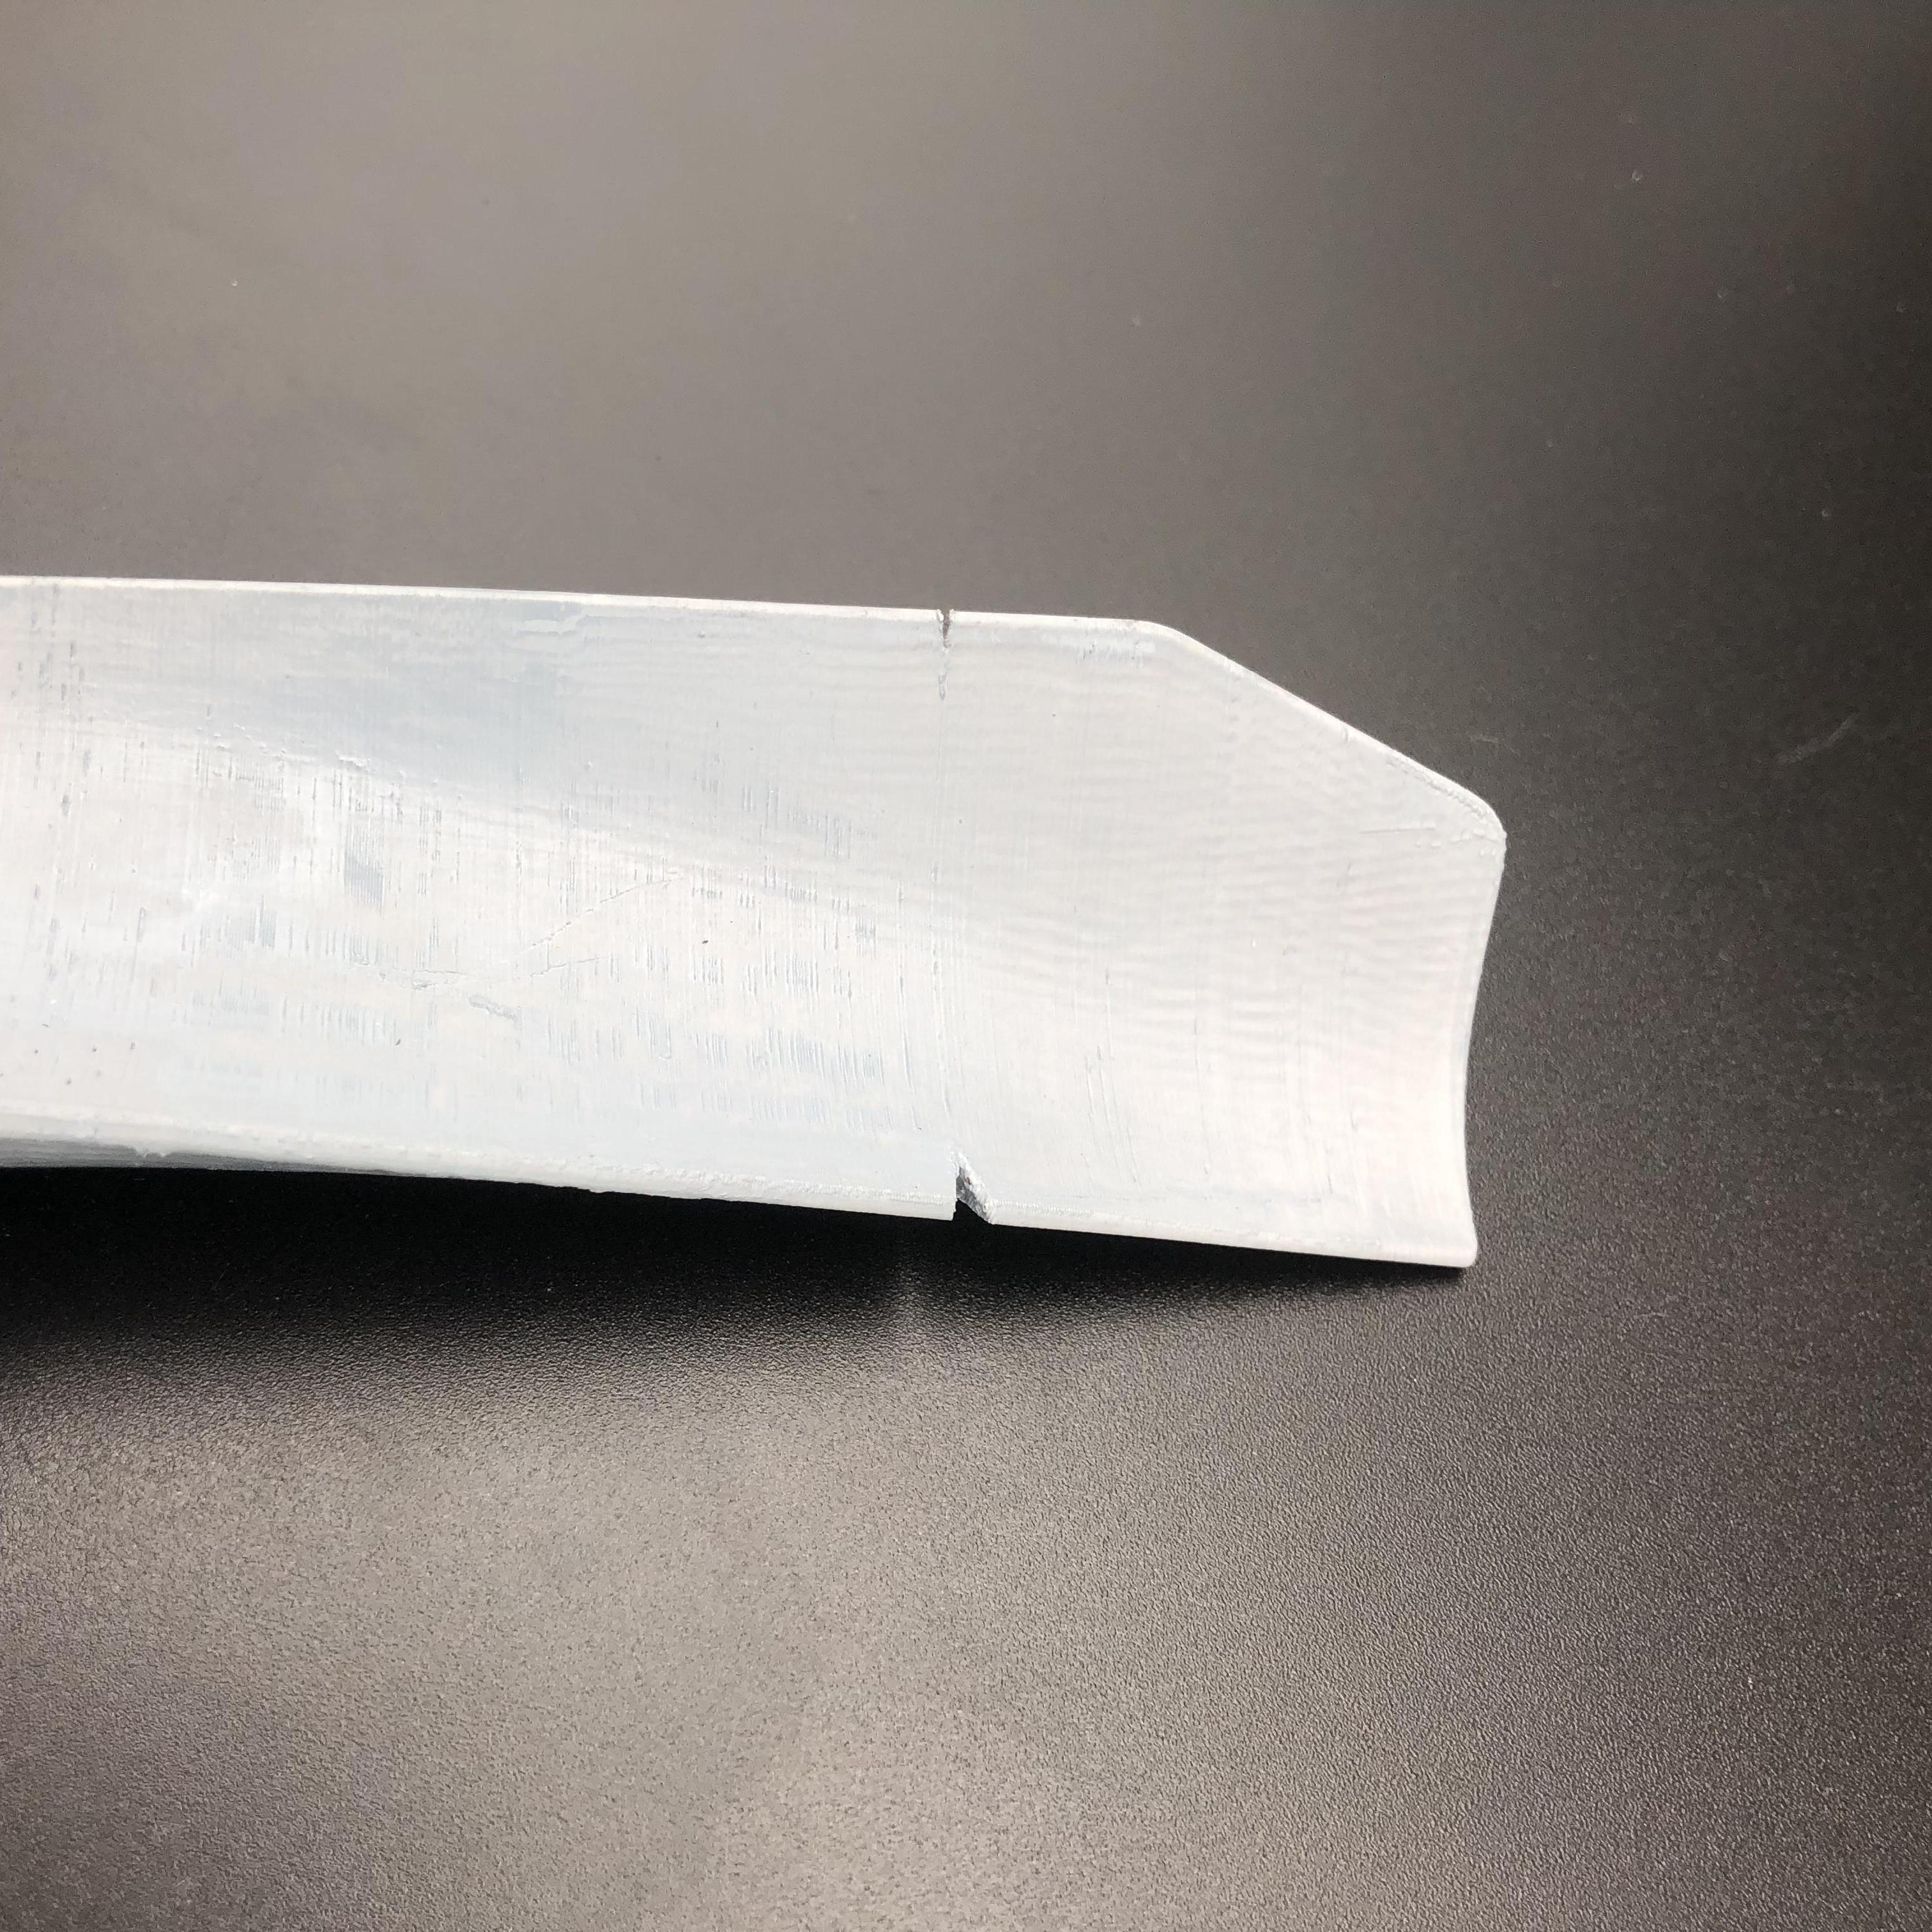groove: (931, 1150, 1008, 1228), (922, 609, 968, 658)
